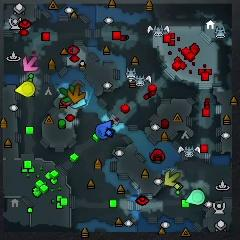p1: (97, 120, 112, 139)
p2: (184, 189, 205, 206)
p4: (15, 82, 36, 96)
x1: (23, 55, 38, 72)
x2: (165, 171, 180, 188)
x3: (70, 98, 87, 109)
x4: (59, 85, 76, 102)
x5: (68, 84, 85, 103)
